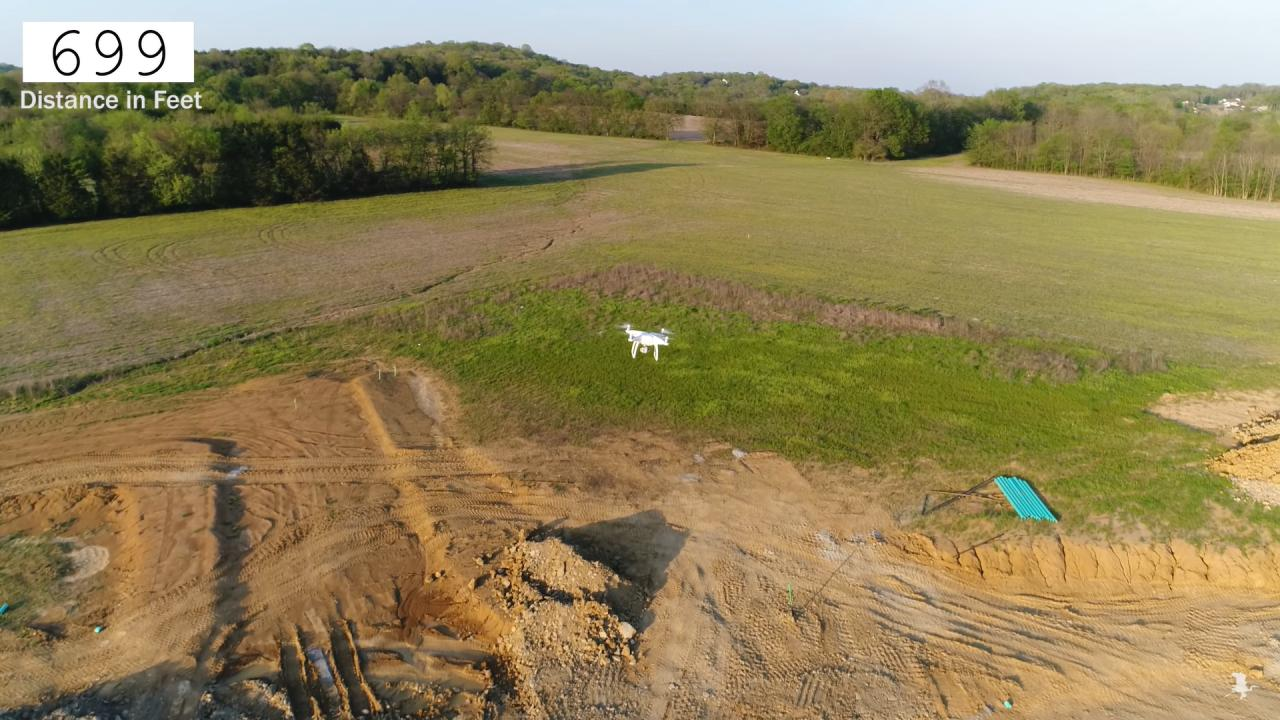Drone: (608, 313, 686, 375)
